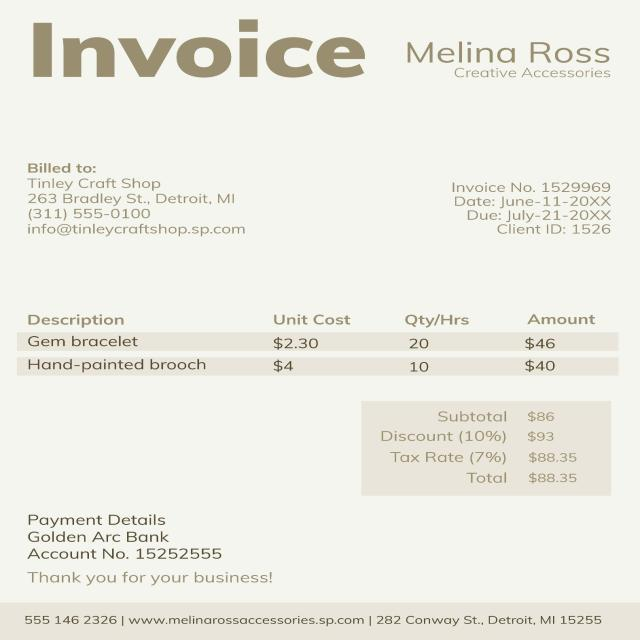ROI: (7, 306, 614, 382), (8, 10, 380, 99), (17, 503, 281, 593), (8, 152, 261, 245), (365, 402, 595, 499), (19, 602, 617, 635), (439, 167, 633, 252), (398, 28, 626, 92)
